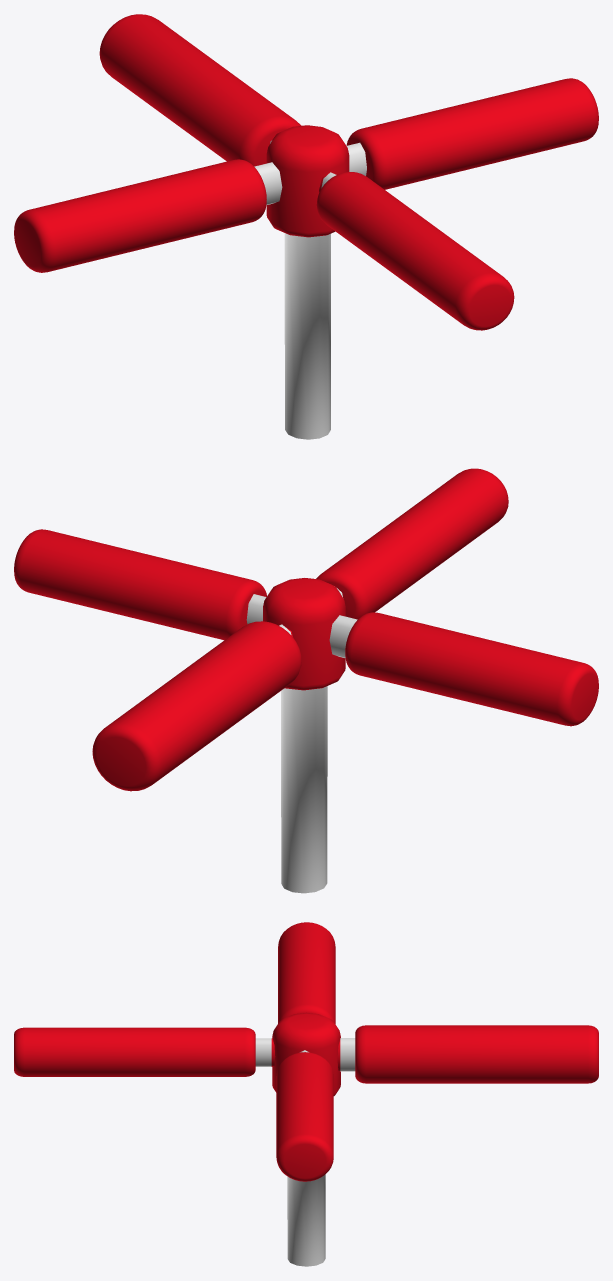
File: 3_lu_engel_.fbx
3 views of the same model, one above another, from view 1: azimuth 30°, elevation 25°; view 2: azimuth 150°, elevation 25°; view 3: azimuth 270°, elevation 25° (orthographic). The views are drawn at different scales.
Parts seen in each view (by area): view 1: engel 2; view 2: engel 2; view 3: engel 2.
Boxes of the visible parts, <box> form: engel 2: <box>14,14,598,439</box>; engel 2: <box>14,468,598,893</box>; engel 2: <box>14,922,598,1266</box>.
Bounding box in the file's own units: 688 × 347 × 776.
